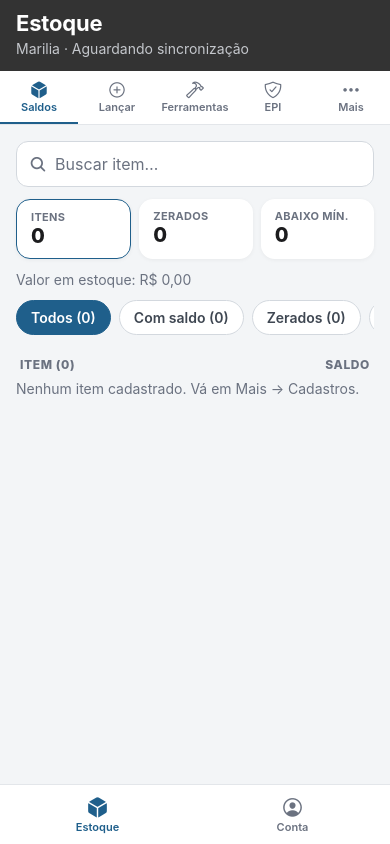
Importar planilha › com erros, lista por linha e não deixa importar
The image size is (390, 844).
Click the element with test id "aba-mais": (351, 97) x1=338 y1=80 x2=364 y2=114
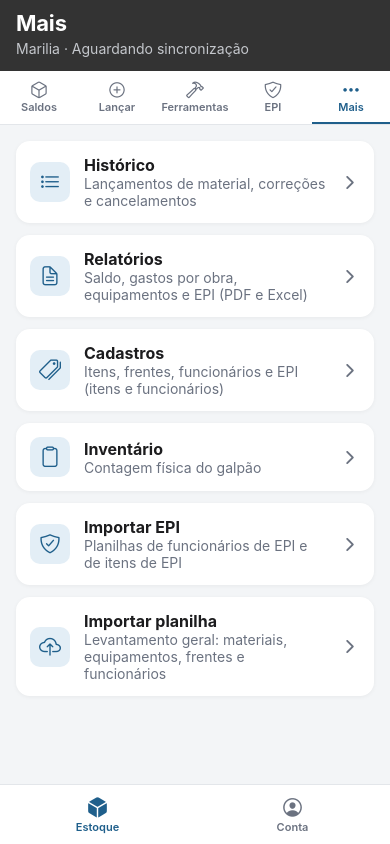
Click the element with test id "abrir-importar": (195, 646) x1=16 y1=597 x2=374 y2=696
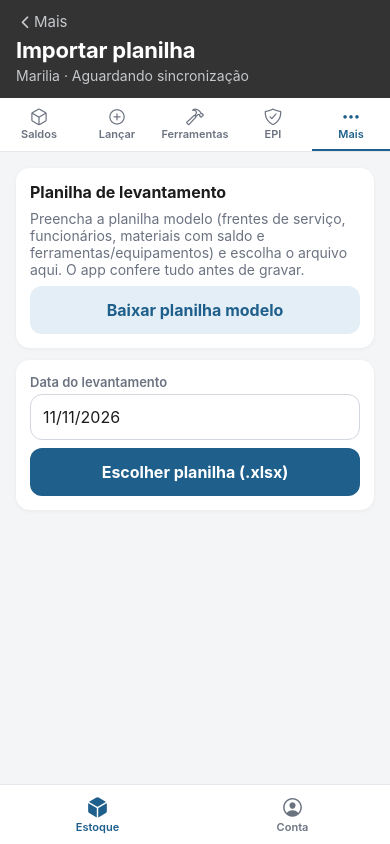
Click the element with test id "escolher-planilha": (195, 472) x1=30 y1=448 x2=360 y2=496
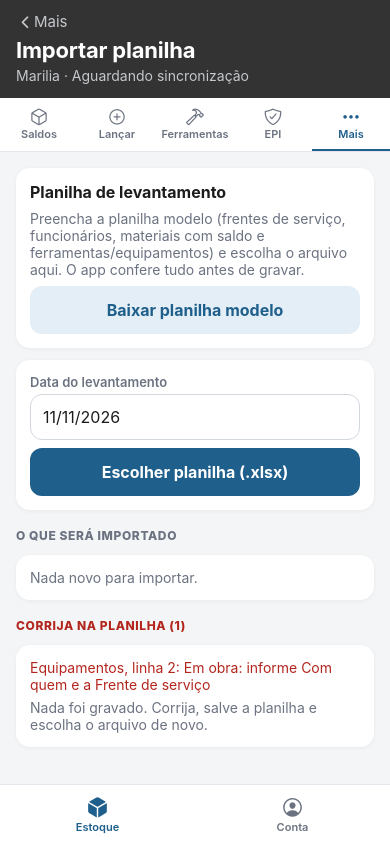
Result: the text with test id "erro-imp-0" reads "Equipamentos, linha 2: Em obra: informe Com quem e a Frente de serviço" at x1=30 y1=659 x2=336 y2=693
